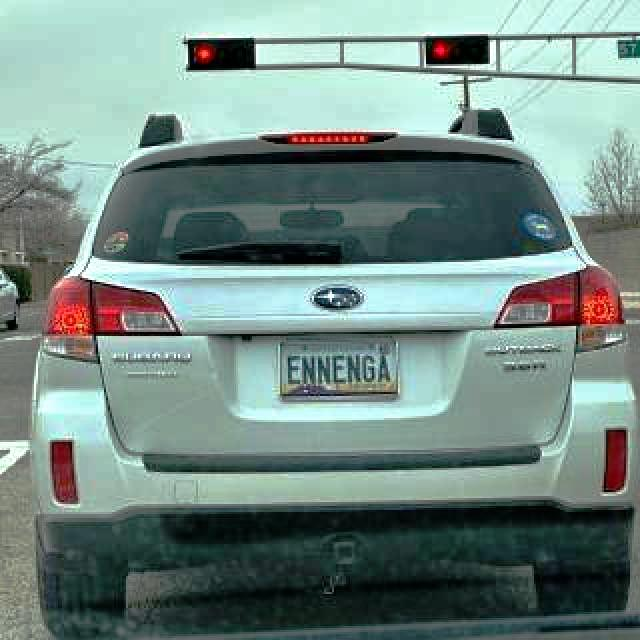license_plate: (283, 339, 399, 401)
